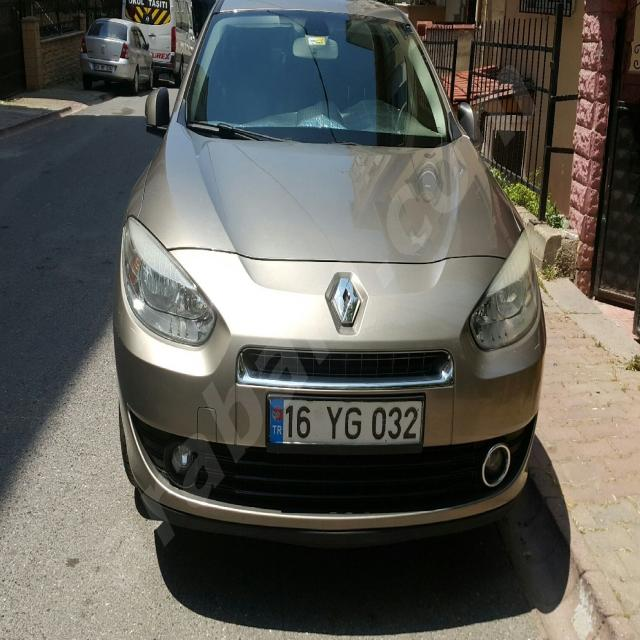license_plate: (267, 395, 422, 446)
